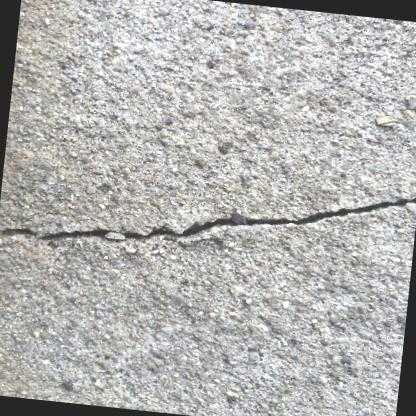crack: (0, 194, 416, 240)
